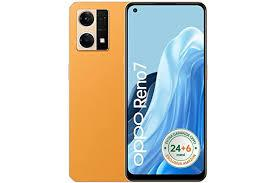Smartphone: (70, 4, 135, 178)
